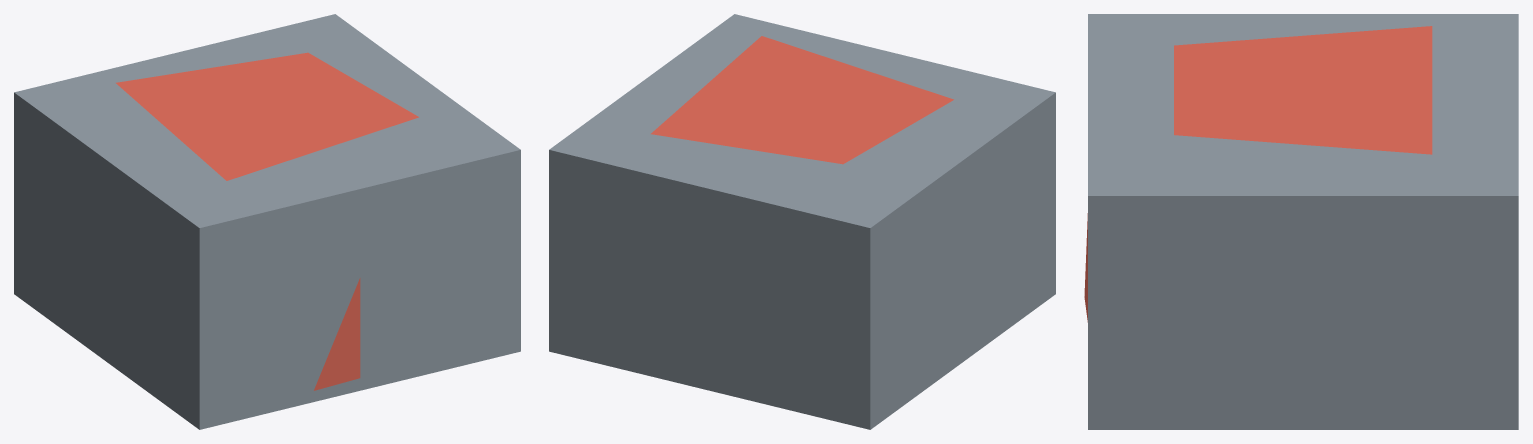
File: SU_GunTurret_LOD1.glb
3 views of the same model, side by side, from view 1: azimuth 30°, elevation 25°; view 2: azimuth 150°, elevation 25°; view 3: azimuth 270°, elevation 25° (orthographic). The views are drawn at different scales.
Parts seen in each view (by area): view 1: EntranceGate; view 2: EntranceGate; view 3: EntranceGate.
Boxes of the visible parts, x1=… form: EntranceGate: x1=14, y1=14, x2=520, y2=429; EntranceGate: x1=549, y1=14, x2=1055, y2=429; EntranceGate: x1=1084, y1=14, x2=1518, y2=429.
Bounding box in the file's own units: 400 × 265 × 403.
